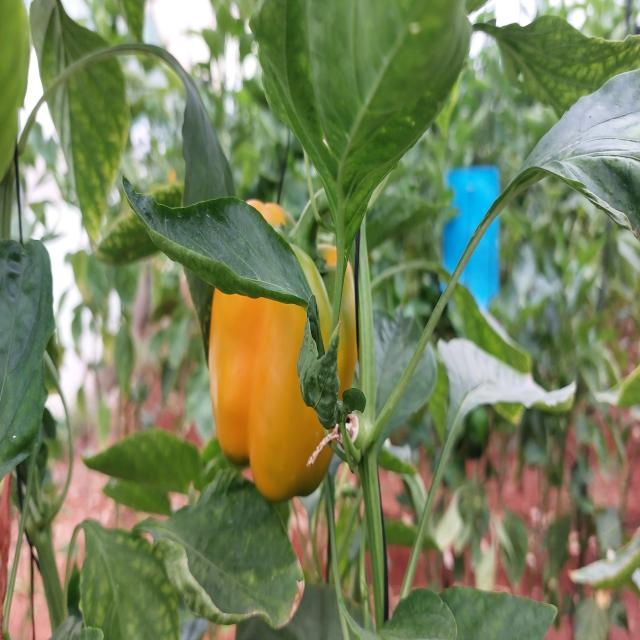Yellow-Ready-to-Harvest: (212, 289, 337, 501)
